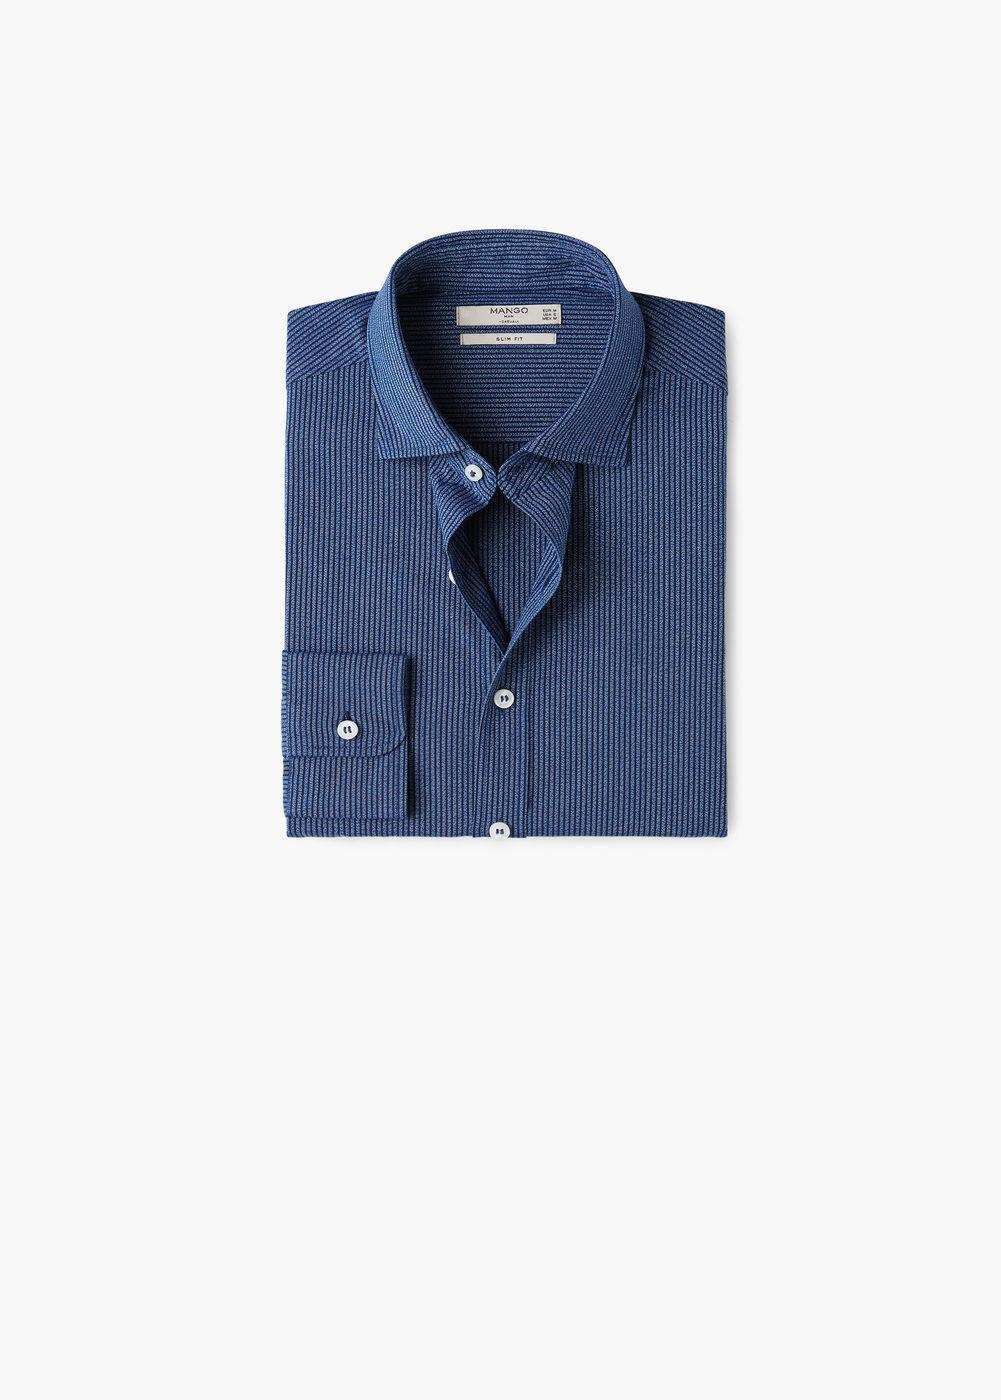teeshirt: (244, 225, 757, 869)
